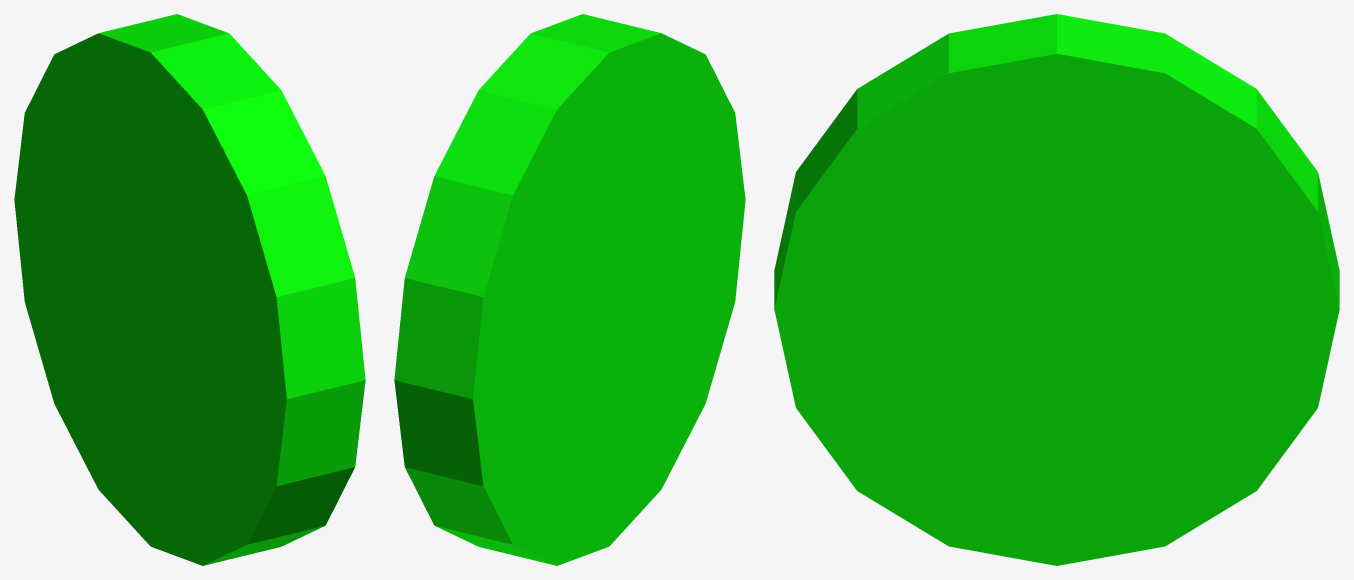
The model's file is LoadCenter_IndicatorOn.fbx.
3 views of the same model, side by side, from view 1: azimuth 30°, elevation 25°; view 2: azimuth 150°, elevation 25°; view 3: azimuth 270°, elevation 25° (orthographic). The views are drawn at different scales.
Parts seen in each view (by area): view 1: IndicatorOn; view 2: IndicatorOn; view 3: IndicatorOn.
Boxes of the visible parts, left/top/right/bottom form: IndicatorOn: left=14, top=14, right=365, bottom=565; IndicatorOn: left=394, top=14, right=745, bottom=565; IndicatorOn: left=774, top=14, right=1339, bottom=565.
Bounding box in the file's own units: 3 × 3 × 0.5.
